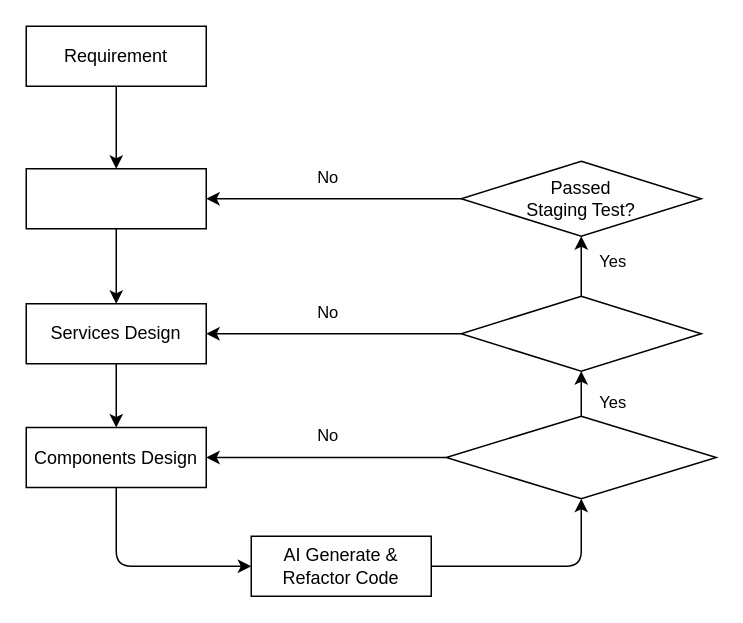
This 743x623 diagram has some shape labels left out. The centre of each missing label's shape, as x and y in pixels:
"Passed Integrated Unit Test?" belongs at pixel 580 457.
"Passed Integration Test?" belongs at pixel 580 333.
"System Design" belongs at pixel 115 198.
